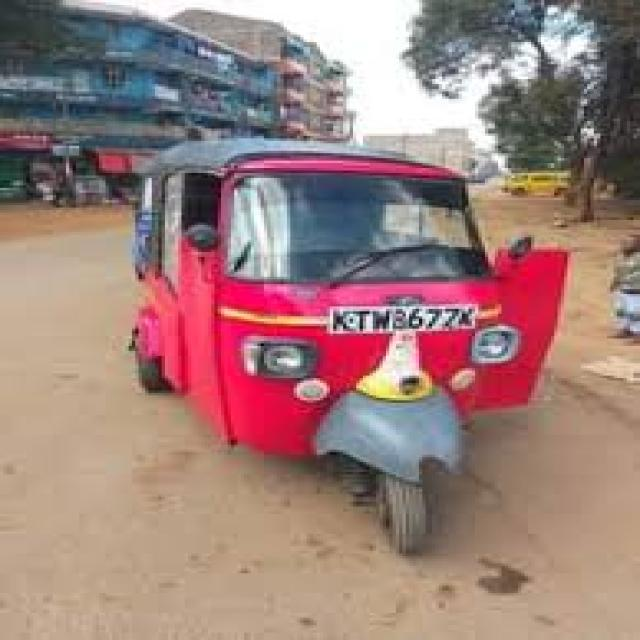tuktuk: (101, 87, 607, 626)
